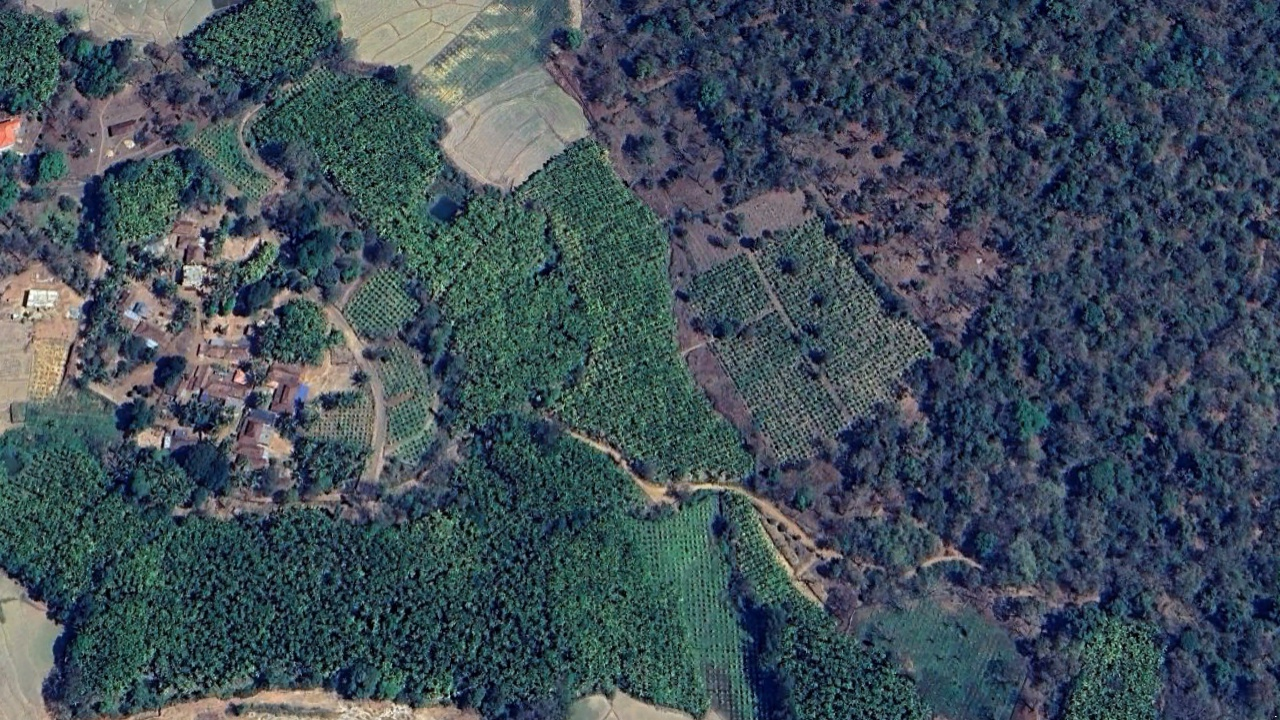arecanut: (10, 433, 711, 716), (444, 131, 752, 474), (286, 74, 446, 263), (1053, 594, 1172, 720), (189, 3, 345, 96), (98, 163, 191, 250), (4, 8, 62, 110)
